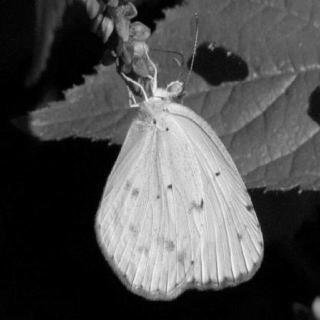other: (99, 96, 267, 296)
